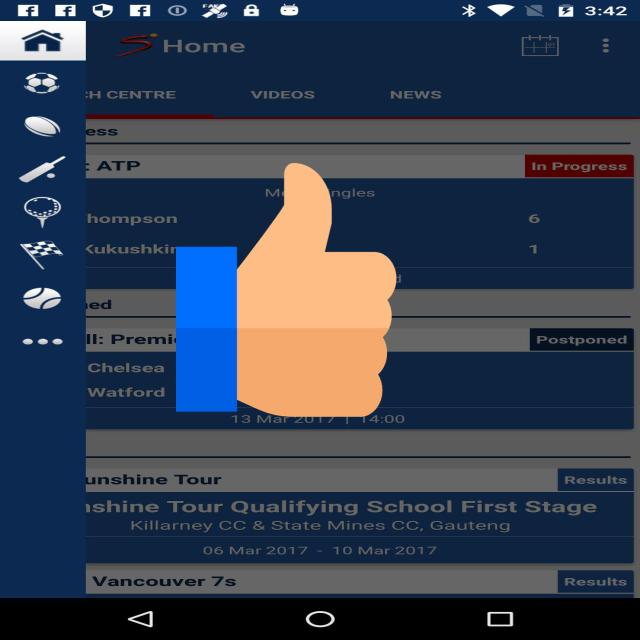privacy zuckering: (176, 157, 396, 423)
